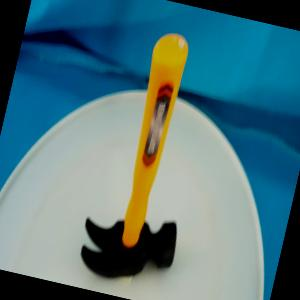martelo: (74, 24, 222, 294)
